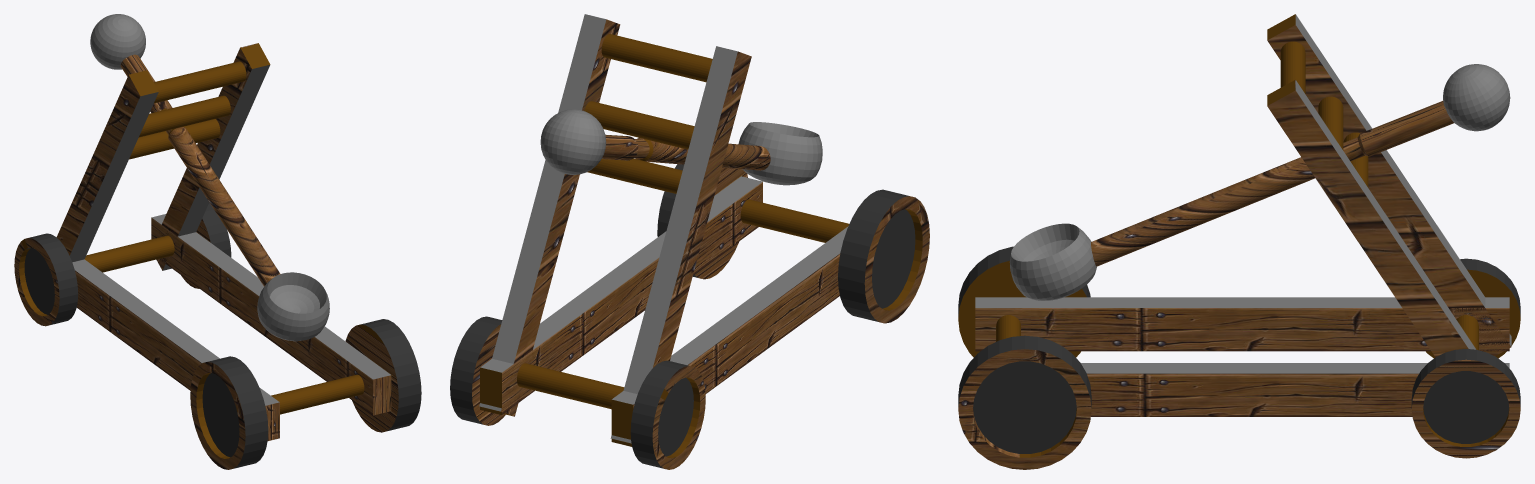
File: Catapult.fbx
3 renders of one model, left to right at view 1: azimuth 30°, elevation 25°; view 2: azimuth 150°, elevation 25°; view 3: azimuth 270°, elevation 25°, orthographic. The views are drawn at different scales.
Parts seen in each view (by area): view 1: Catapult, Arm; view 2: Catapult, Arm; view 3: Catapult, Arm.
Boxes of the visible parts, bbox=[...] form: Catapult: bbox=[14, 43, 421, 469]; Arm: bbox=[90, 14, 329, 341]; Catapult: bbox=[450, 14, 929, 469]; Arm: bbox=[540, 109, 822, 185]; Catapult: bbox=[958, 14, 1520, 469]; Arm: bbox=[1009, 64, 1510, 300].
Bounding box in the file's own units: 294 × 484 × 675.
